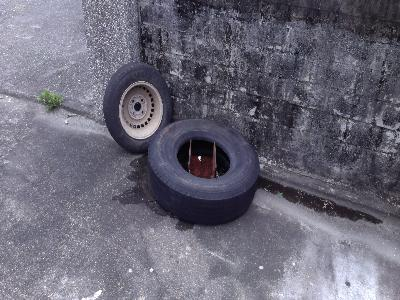tire: (148, 118, 261, 226), (101, 62, 176, 155)
